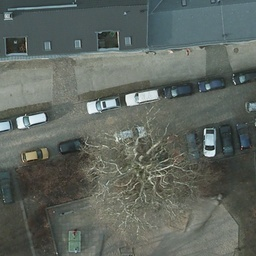car: (124, 88, 160, 106), (16, 111, 47, 131), (85, 96, 120, 113), (163, 81, 193, 99), (115, 126, 148, 142), (165, 134, 181, 167), (198, 75, 226, 93), (184, 129, 197, 164), (236, 121, 251, 151), (219, 125, 234, 155), (201, 126, 216, 156), (59, 136, 88, 151), (21, 147, 50, 162), (231, 69, 255, 86), (1, 172, 11, 203), (1, 118, 12, 133)
